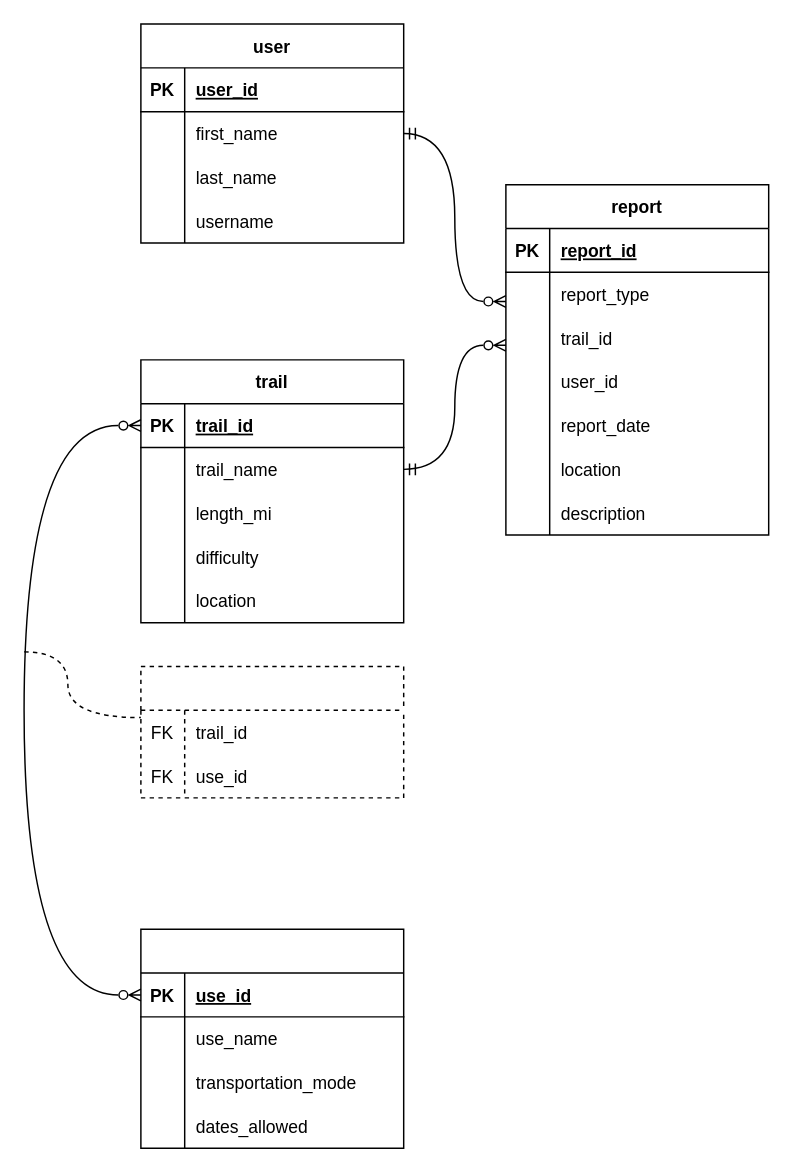
The diagram is 793 pixels wide and 1172 high, and some of its shapes have lost their labels. The box of each missing label's shape, as (x1, y1, x2, y2) in pixels:
permitted_use: (139, 928, 404, 1148)
trail_permitted_use: (139, 665, 404, 798)
